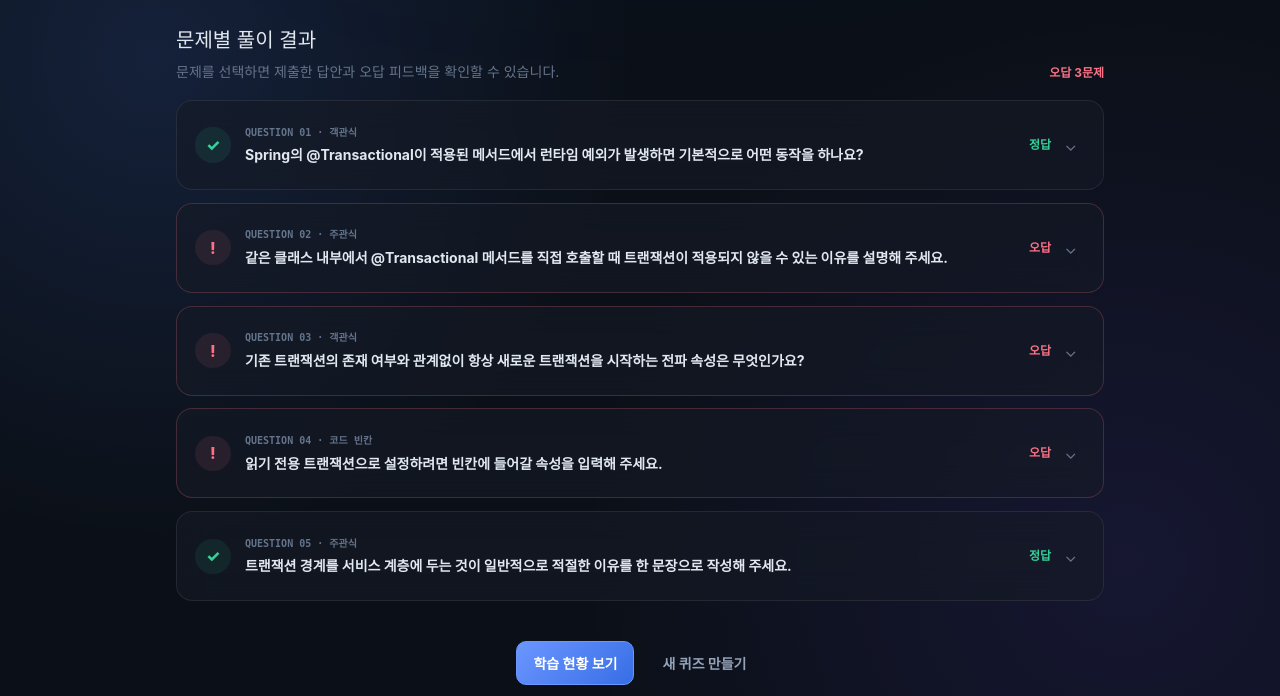
Scenario: ResultReportPage › 객관식 문항 오답 시 정답 선택지(번호 및 내용)를 렌더링한다
(page scrolled)
Click the text "기존 트랜잭션의 존재 여부와 관계없이 항상 새로운 트랜잭션을 시작하는 전파 속성은 무엇인가요?" at {"x": 525, "y": 360}, box [245, 352, 804, 369]
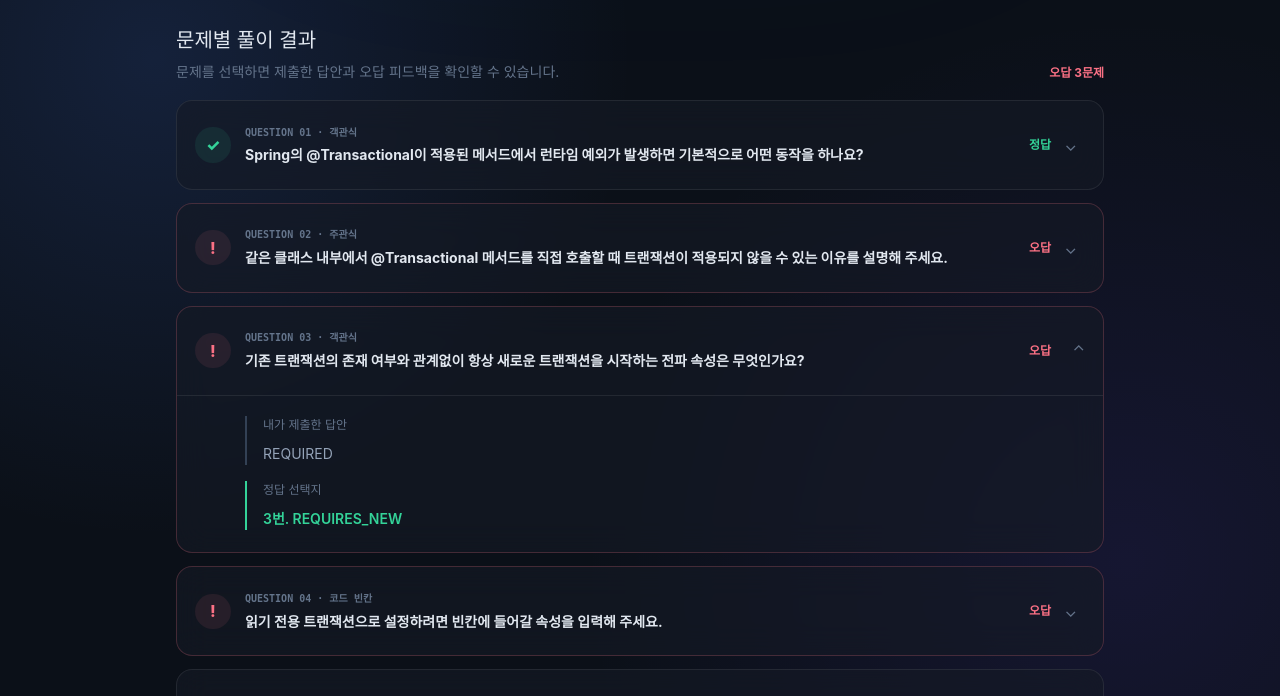
Expected: the heading "정답 선택지" is shown, [263, 482, 322, 497]
Expected: the text "3번. REQUIRES_NEW" is shown, [263, 510, 402, 527]
